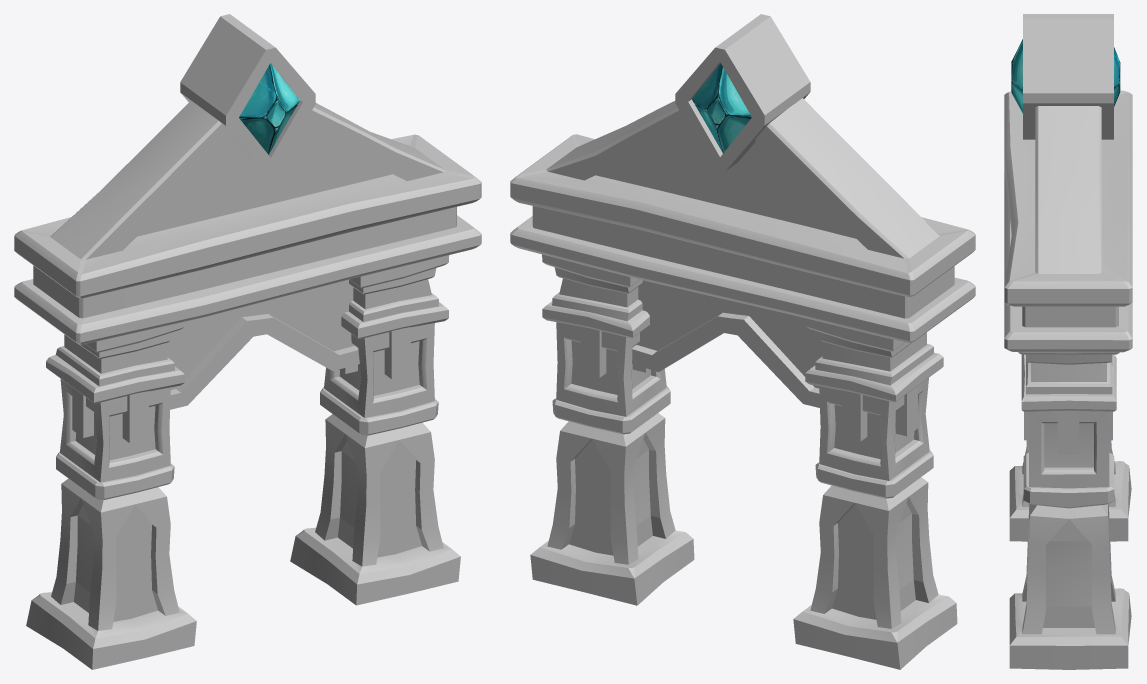
Rendered from Moonset_FBX_door_01.fbx.
3 renders of one model, left to right at view 1: azimuth 30°, elevation 25°; view 2: azimuth 150°, elevation 25°; view 3: azimuth 270°, elevation 25°, orthographic.
Parts seen in each view (by area): view 1: Door_01; view 2: Door_01; view 3: Door_01.
Boxes of the visible parts, bbox=[...] form: Door_01: bbox=[14, 14, 481, 669]; Door_01: bbox=[510, 14, 975, 669]; Door_01: bbox=[1004, 14, 1132, 669].
Bounding box in the file's own units: 8.8 × 11.85 × 2.44.
